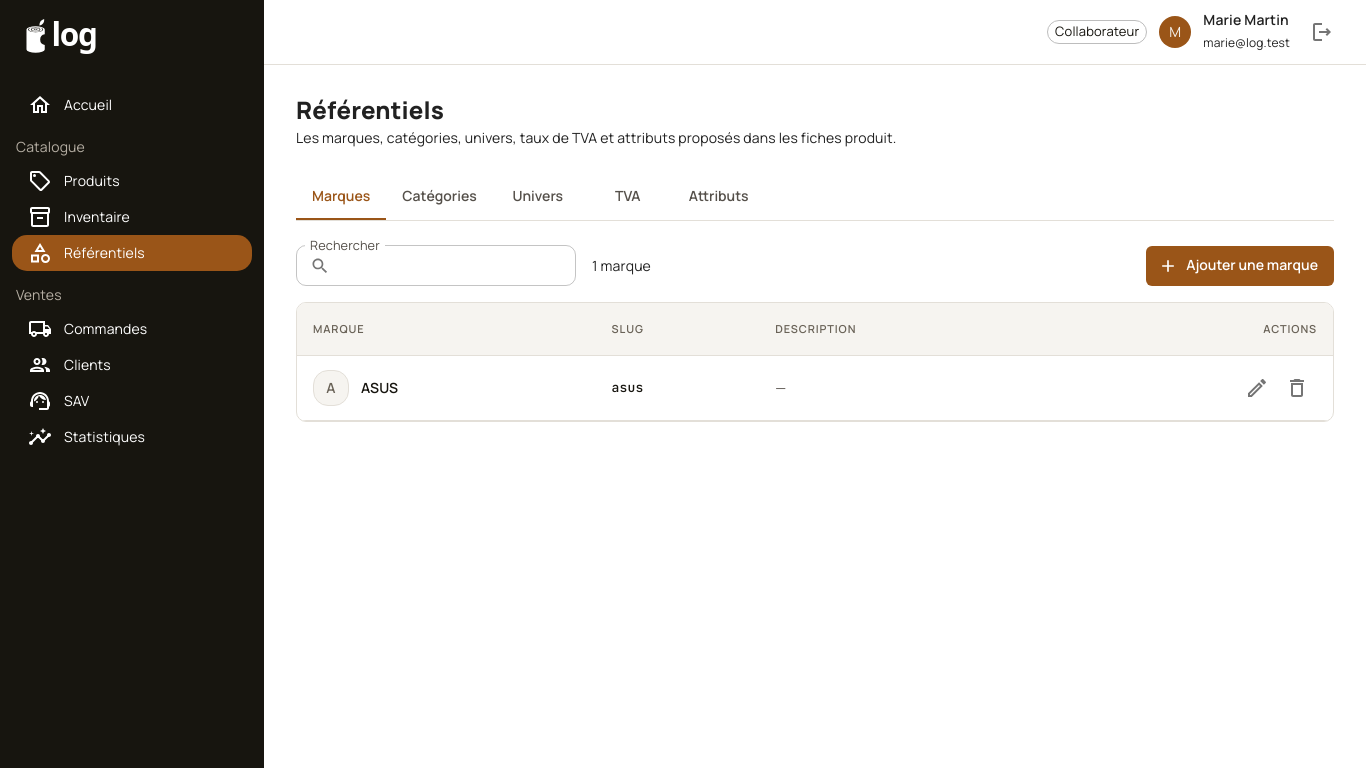
it: the reference lists (C19) › creates a brand: trimmed fields, the slug left to the service, the list reloaded
The image size is (1366, 768).
Expected: the column heading "A ASUS" is shown, top-left (297, 356), bottom-right (596, 421)
Step 1. Click the button "Ajouter une marque" → coordinates (1240, 266), box top-left (1146, 246), bottom-right (1334, 286)
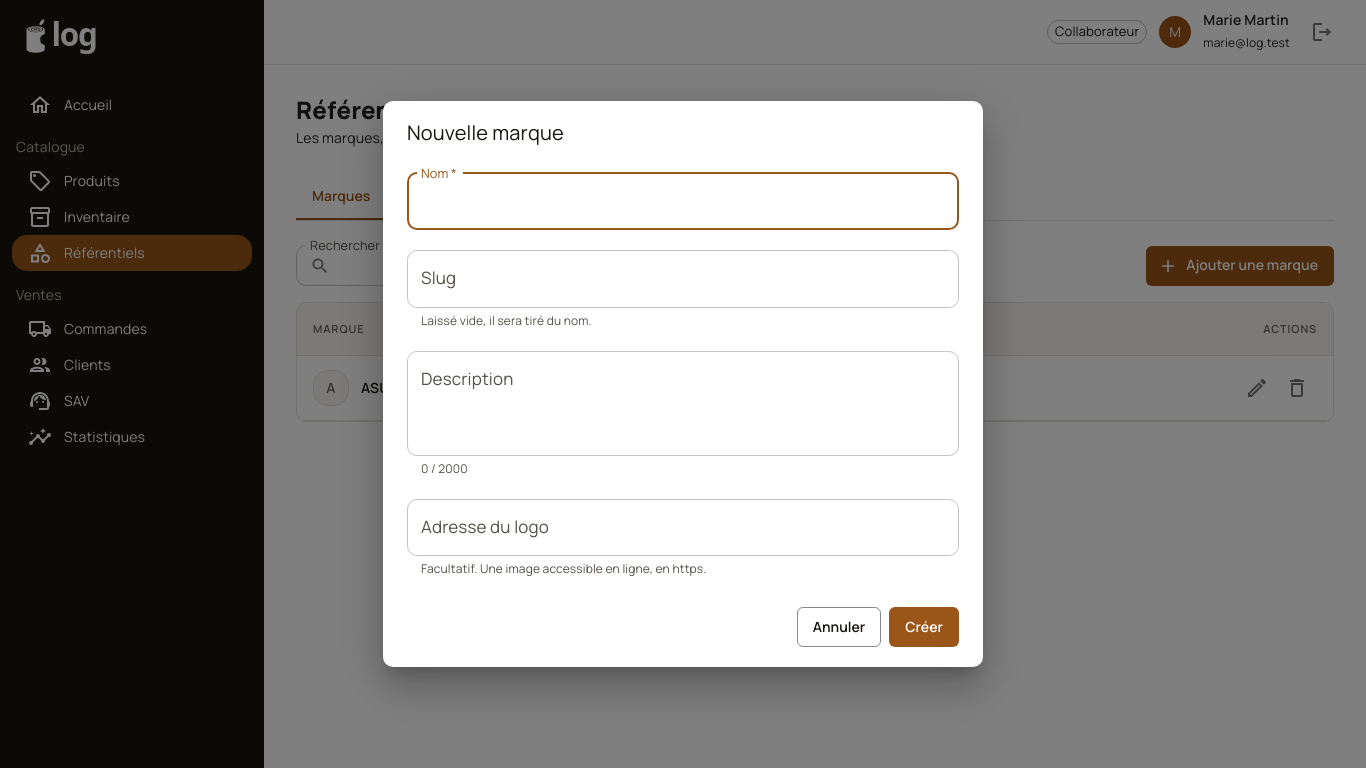
Step 2. Type "  Corsair " into the field labelled "Nom" → coordinates (683, 202), box top-left (407, 173), bottom-right (959, 230)
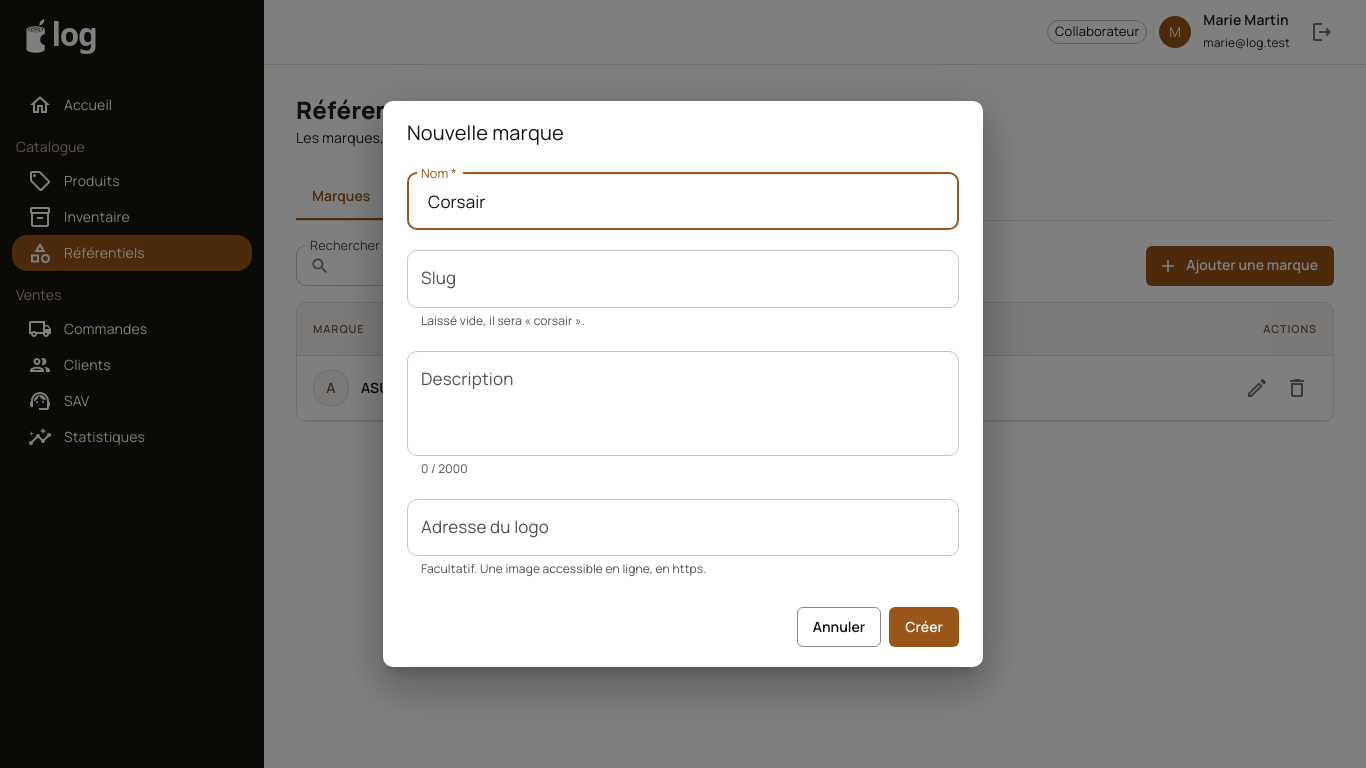
Result: the text "Laissé vide, il sera « corsair »." is shown at top-left (421, 312), bottom-right (585, 329)
Step 3. Click the button "Créer" → coordinates (924, 627), box top-left (889, 607), bottom-right (959, 647)
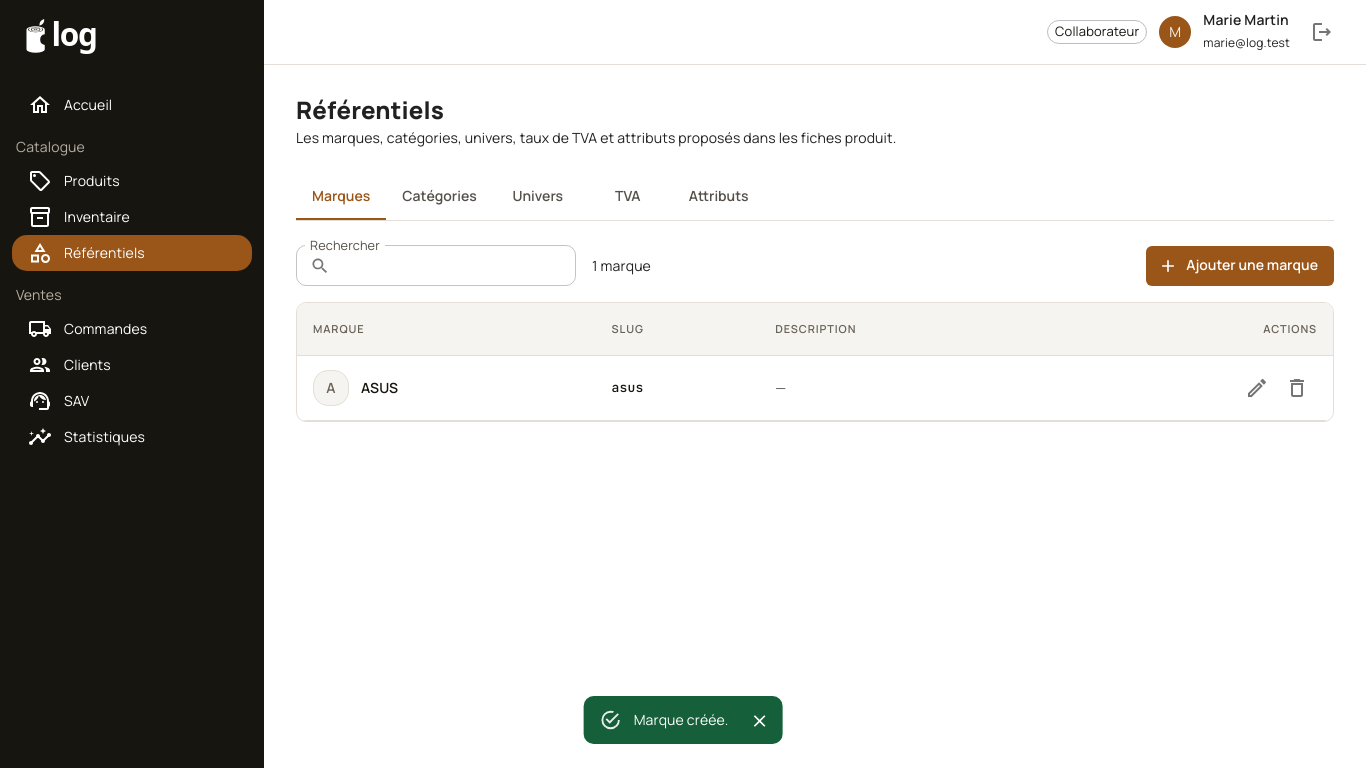
Result: the text "Marque créée." is shown at top-left (634, 710), bottom-right (728, 729)
